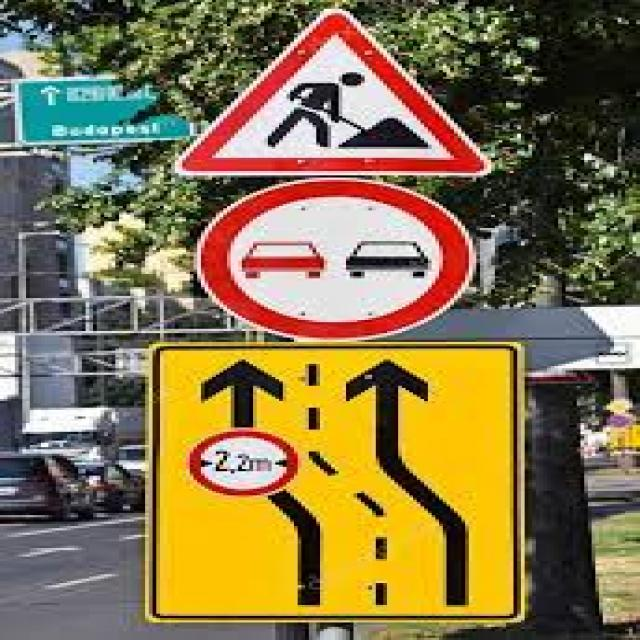no overtaking: (188, 175, 482, 347)
roadwork: (172, 8, 496, 182)
